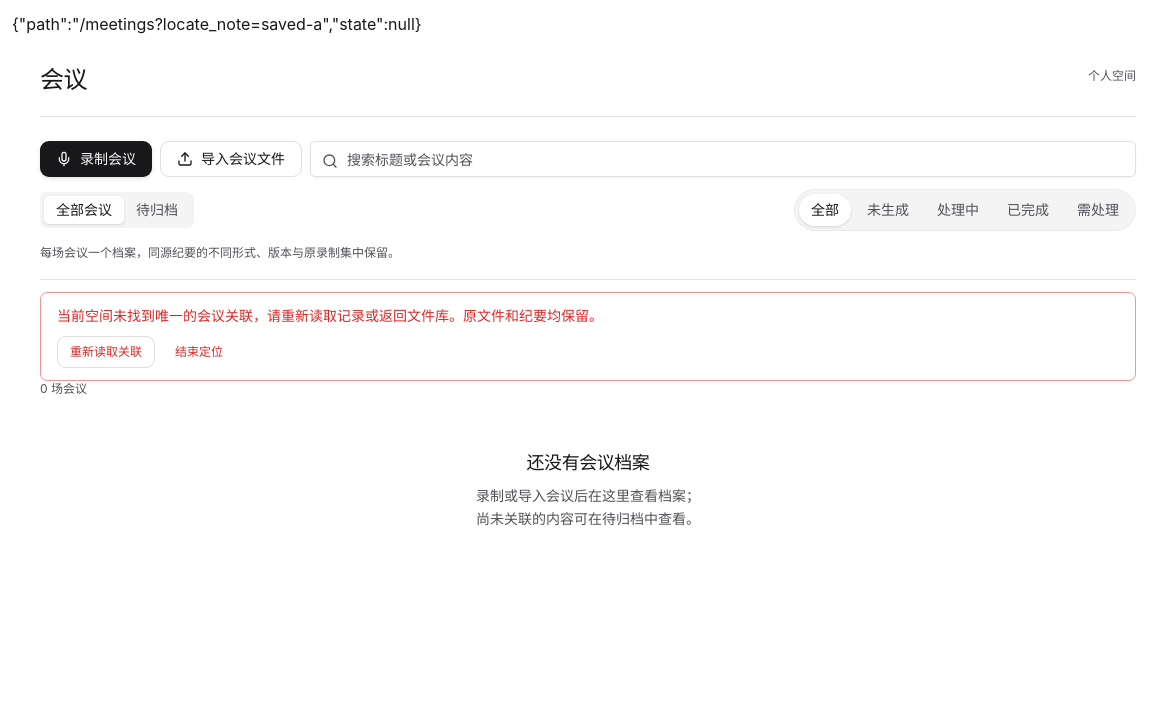
it: recovers a missing exact association by explicit re-read without a POST
Click the button "重新读取关联". click: [106, 352]
box: 57,336 -> 155,368
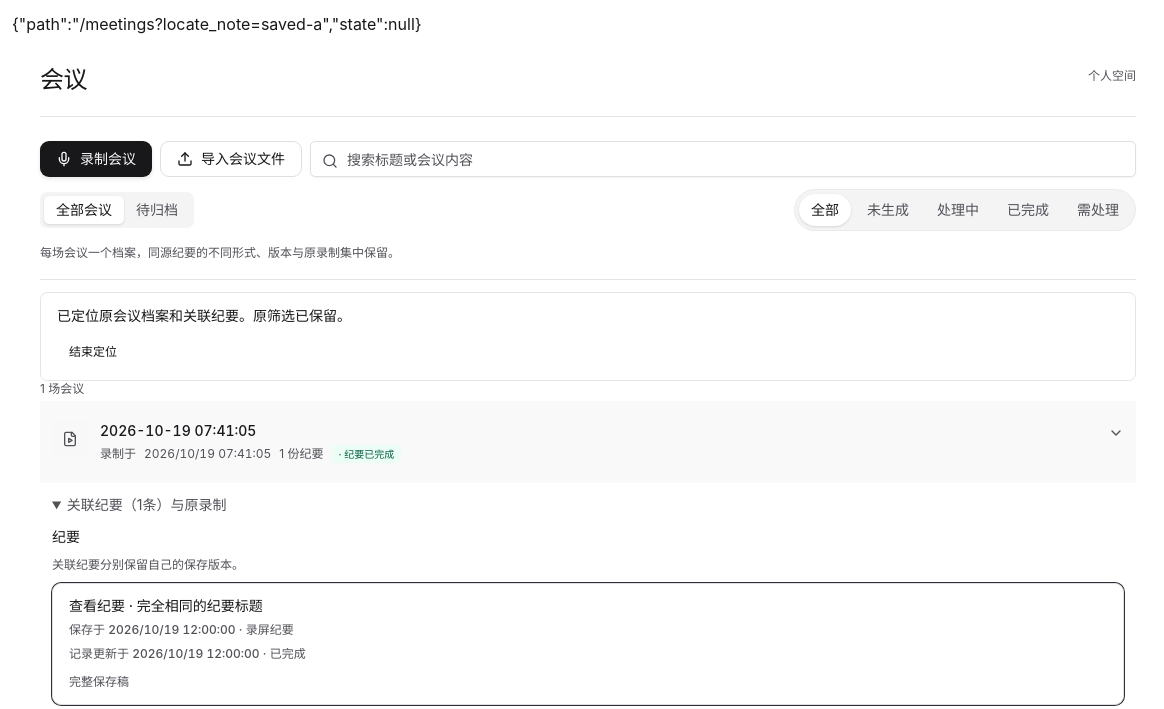
Now the text "已定位原会议档案和关联纪要。原筛选已保留。" is shown, box 57,307 -> 351,324
Now the button that starts with "查看纪要 ·" is shown, box 52,583 -> 1124,705
